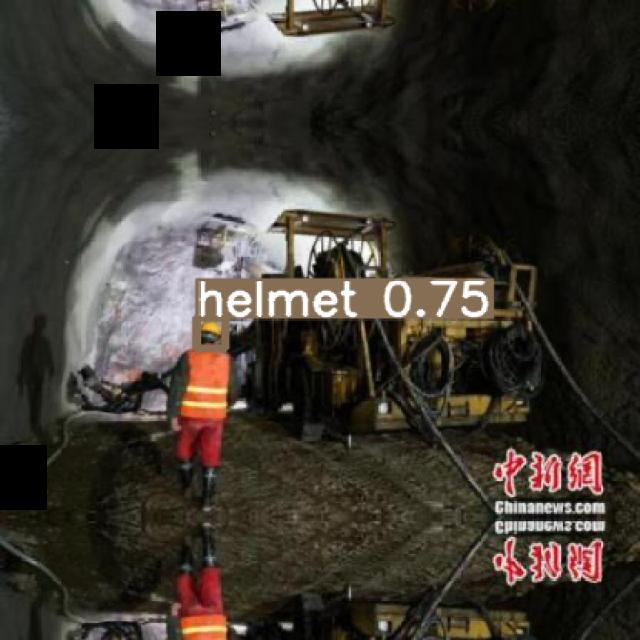helmet: (200, 321, 221, 336)
